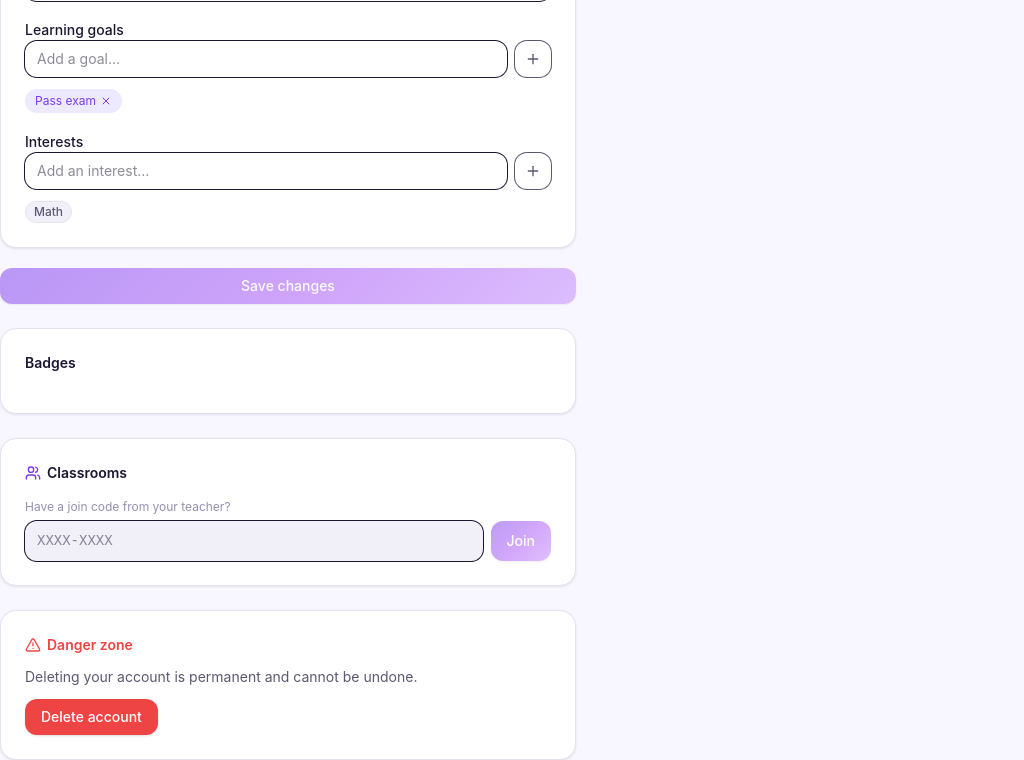
it: ProfilePage › account deletion › disables the confirm button until the email is typed exactly
This screenshot has width=1024, height=760.
(page scrolled)
Click the button "Delete account" at (91, 717), box [25,699,158,735]
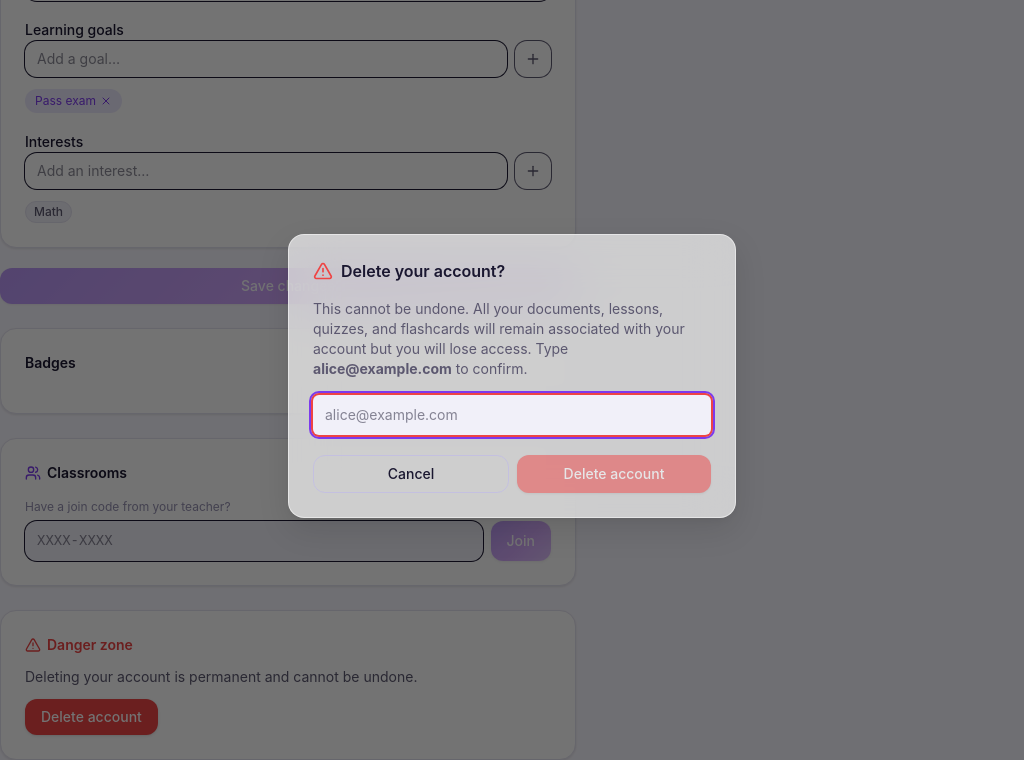
Result: the heading "Delete your account?" is shown at [341,259,505,283]
Result: the button "Delete account" is disabled at [517,455,711,493]
Type "wrong@example.com" into the field with placeholder "alice@example.com" at (512, 415), box [313,395,711,435]
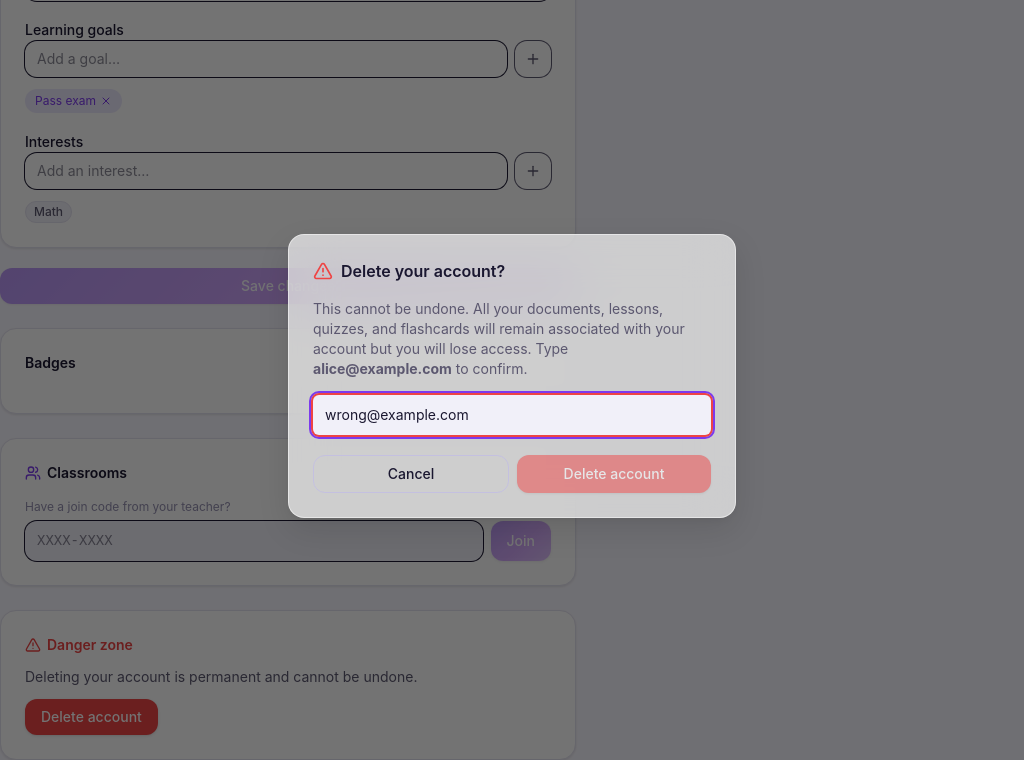
Result: the button "Delete account" is disabled at [517,455,711,493]
Replace the text in the field with placeholder "alice@example.com" with "alice@example.com" at (512, 415), box [313,395,711,435]
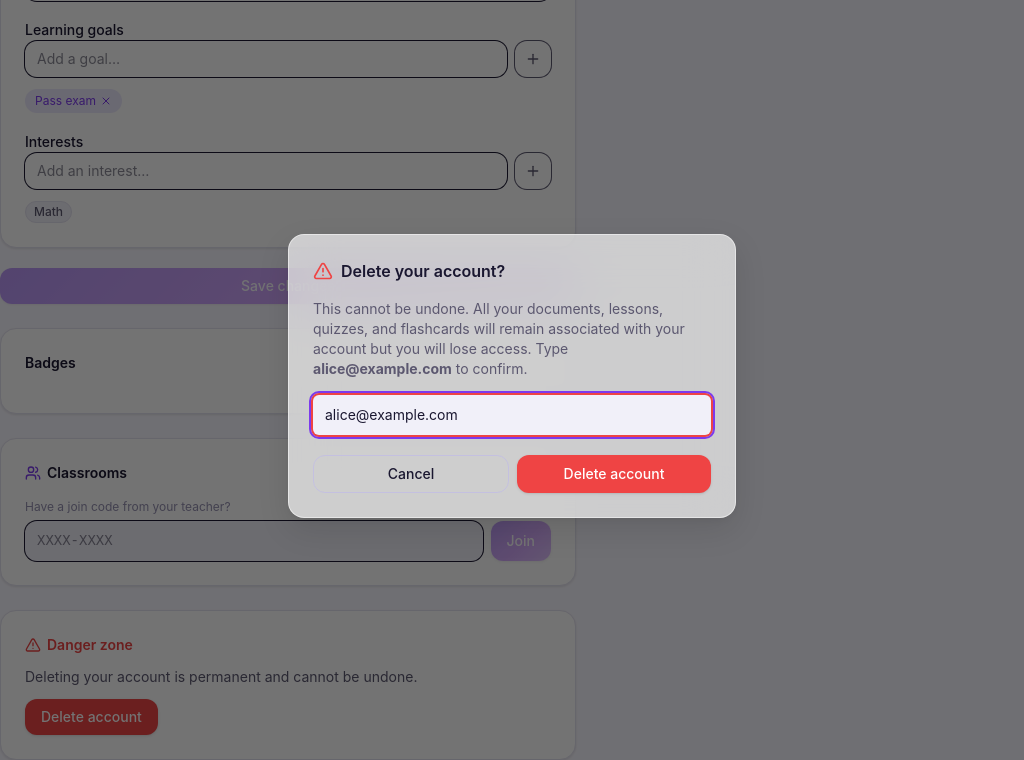
Result: the button "Delete account" is enabled at [517,455,711,493]
